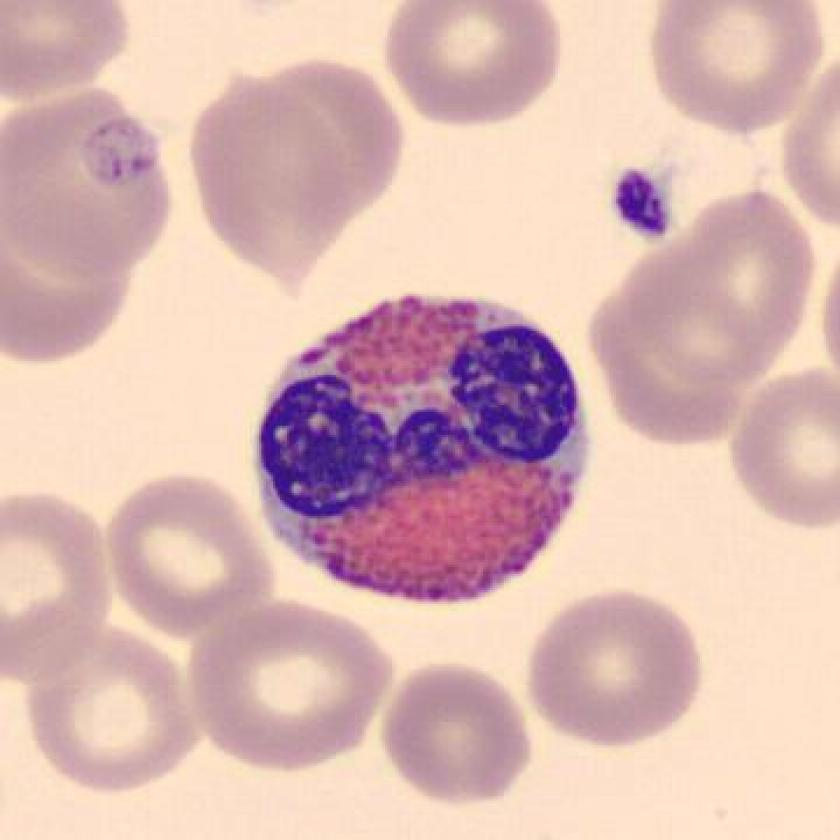eosinophil: (246, 277, 601, 622)
